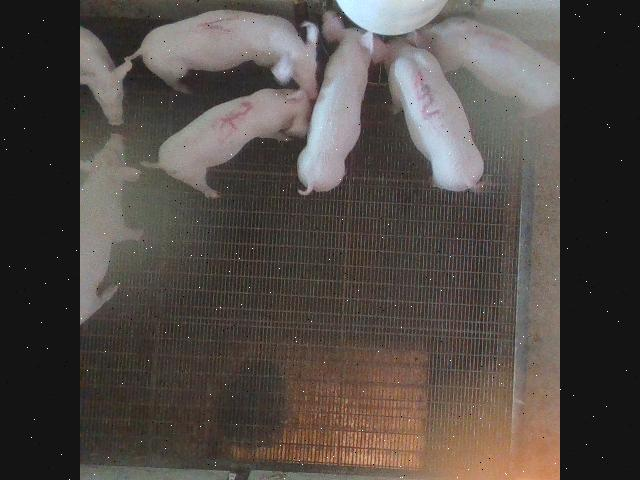pig-1: (126, 9, 319, 98)
pig-3: (386, 39, 484, 190)
pig-4: (409, 16, 559, 110)
pig-5: (141, 89, 312, 198)
